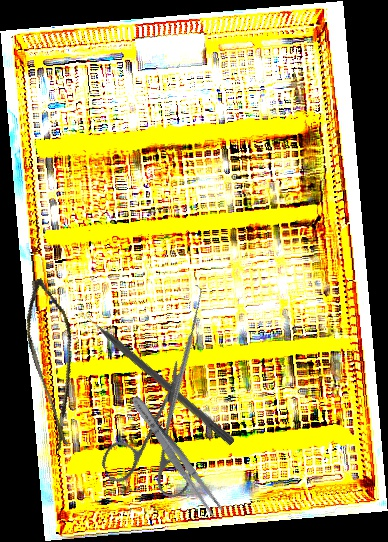Dressing Forceps: (126, 392, 226, 519)
Hook Surgical: (110, 284, 255, 429)
Iris Scissors: (75, 358, 237, 521)
Micro Scissor: (1, 274, 109, 451)
Pusher: (76, 304, 237, 447)
